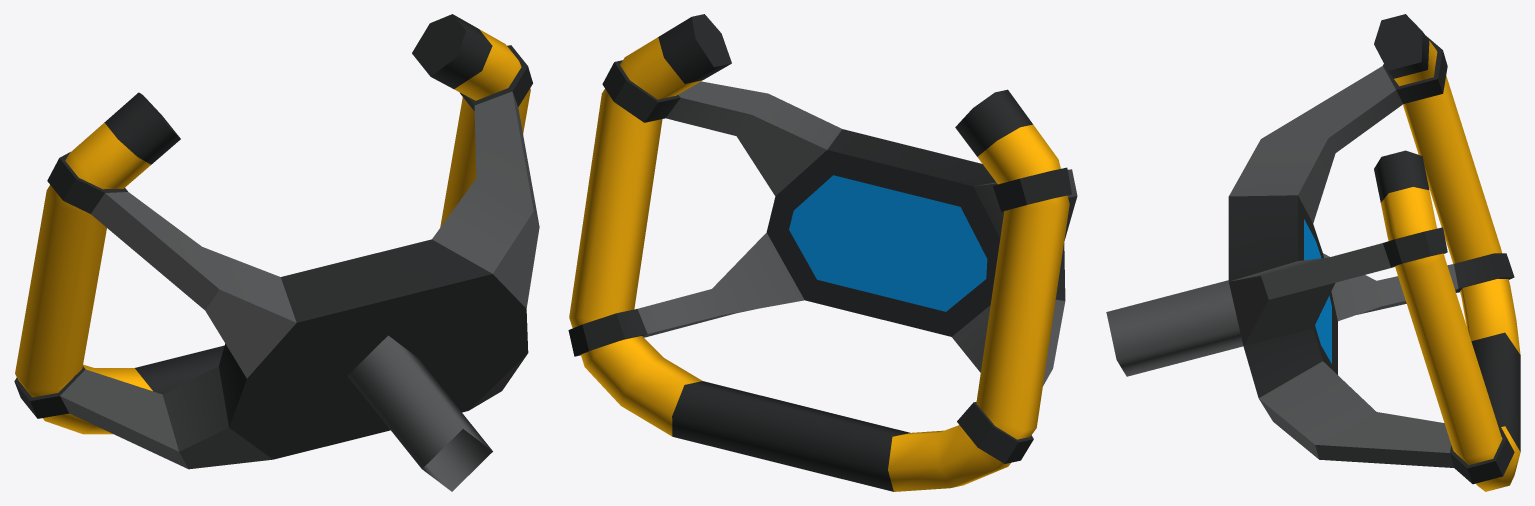
File: Buggy__Steering_Wheel_001.fbx
3 views of the same model, side by side, from view 1: azimuth 30°, elevation 25°; view 2: azimuth 150°, elevation 25°; view 3: azimuth 270°, elevation 25° (orthographic). The views are drawn at different scales.
Parts seen in each view (by area): view 1: Buggy__Steering_Wheel_001; view 2: Buggy__Steering_Wheel_001; view 3: Buggy__Steering_Wheel_001.
Boxes of the visible parts, x1,y1,x2,y2 form: Buggy__Steering_Wheel_001: (14, 14, 539, 491); Buggy__Steering_Wheel_001: (568, 14, 1077, 491); Buggy__Steering_Wheel_001: (1106, 14, 1520, 491).
Bounding box in the file's own units: 57.68 × 48.69 × 45.45.
